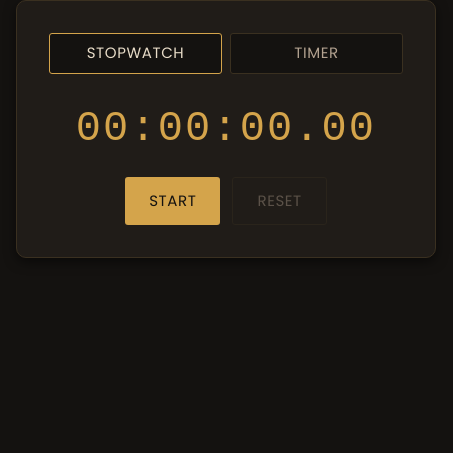
Stopwatch — timer mode › shows "Time's up!" and disables Start once it reaches zero
The image size is (453, 453).
Click the tab "Timer" at (316, 53), box x1=230 y1=33 x2=403 y2=74
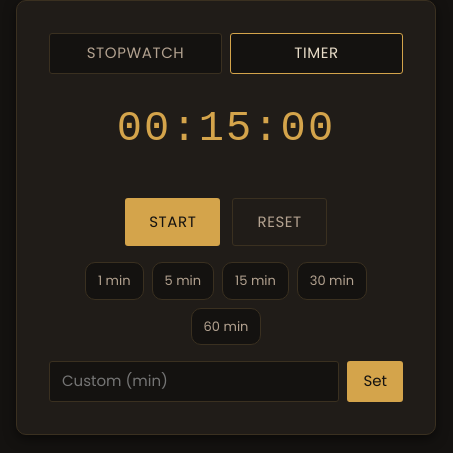
Click the button "1 min" at (114, 281), box x1=85 y1=262 x2=144 y2=300
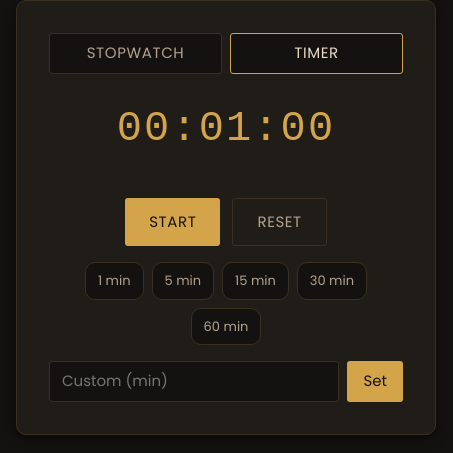
Click the button "Start" at (173, 222), box x1=125 y1=198 x2=220 y2=246
Wait 60000 ms
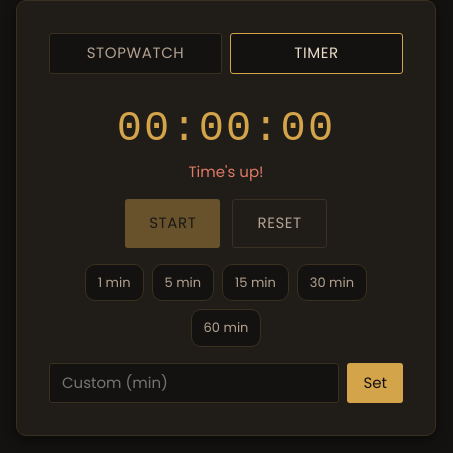
Expected: the text with class "stopwatch-display" reads "00:00:00", x1=117 y1=104 x2=335 y2=152
Expected: the text "Time's up!" is shown, x1=188 y1=160 x2=264 y2=183
Expected: the button "Start" is disabled, x1=125 y1=199 x2=220 y2=248
